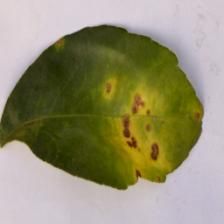canker: (100, 76, 170, 166)
